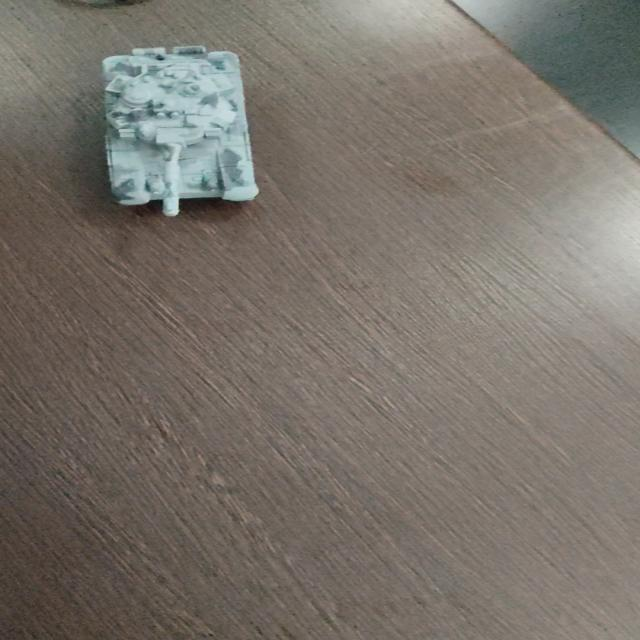tank: (96, 44, 258, 219)
